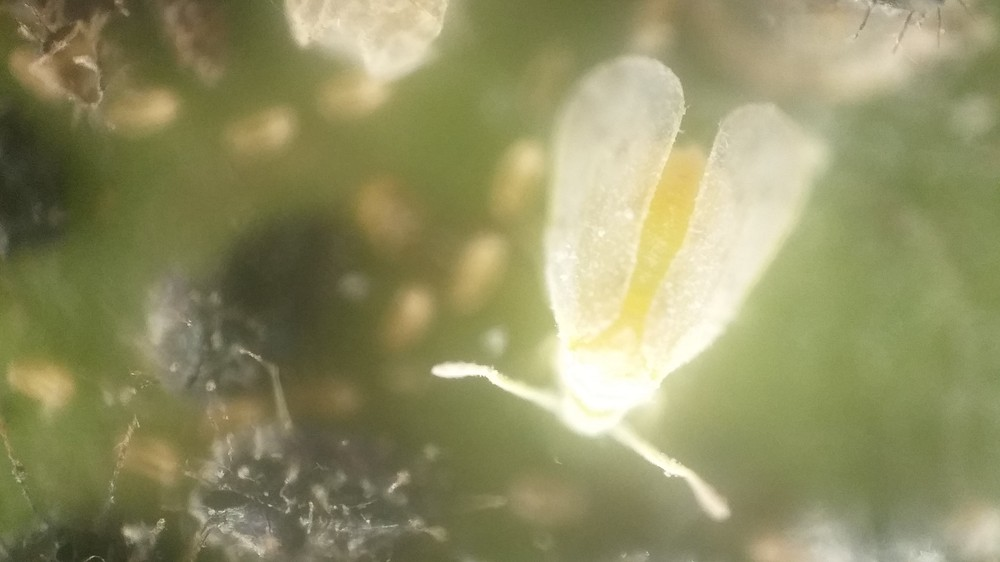Mosca Blanca: (426, 47, 842, 538)
